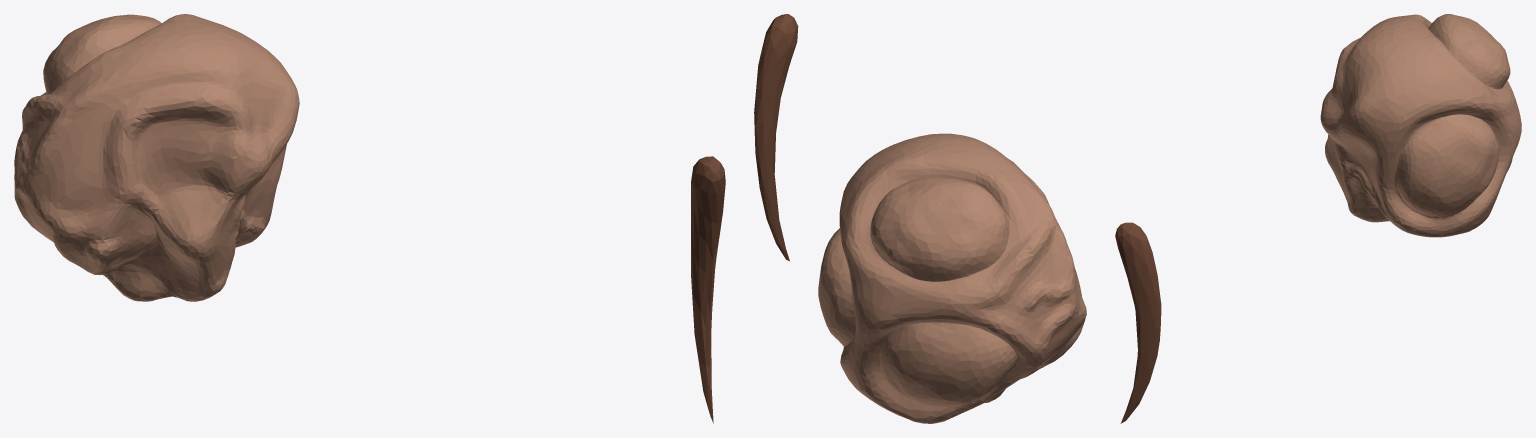
File: Peuktorb.dae
3 renders of one model, left to right at view 1: azimuth 30°, elevation 25°; view 2: azimuth 150°, elevation 25°; view 3: azimuth 270°, elevation 25°, orthographic. The views are drawn at different scales.
Parts seen in each view (by area): view 1: Peuktorb, PeuktorbLimb; view 2: Peuktorb, PeuktorbLimb; view 3: Peuktorb, PeuktorbLimb.
Boxes of the visible parts, x1,y1,x2,y2 form: Peuktorb: [14, 14, 299, 301]; PeuktorbLimb: [691, 156, 725, 423]; Peuktorb: [818, 133, 1086, 423]; PeuktorbLimb: [754, 14, 798, 261]; Peuktorb: [1320, 14, 1521, 237]; PeuktorbLimb: [1115, 222, 1161, 423].
Size of the model in its own units: 9.51 by 8.54 by 6.11.
